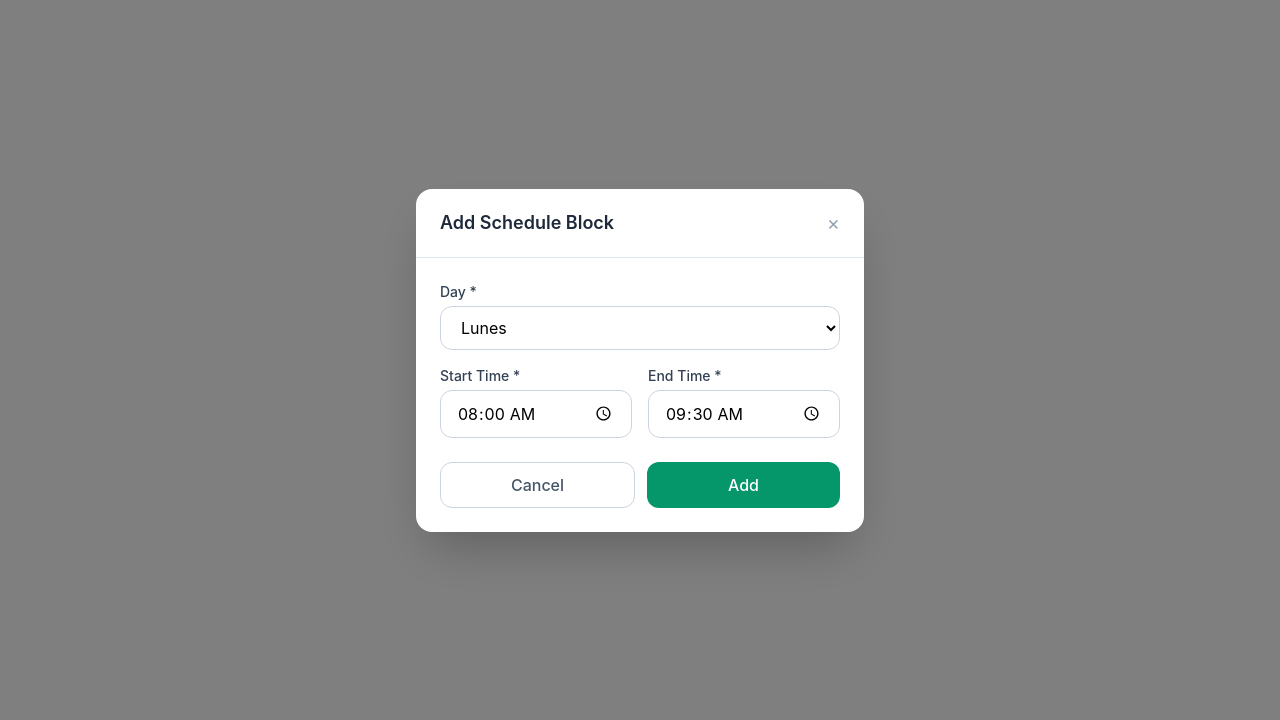
Test: ScheduleFormModal › should show validation error on empty submit
This screenshot has width=1280, height=720.
Clear the time field below "Start Time *": (536, 414) [440, 390, 632, 438]
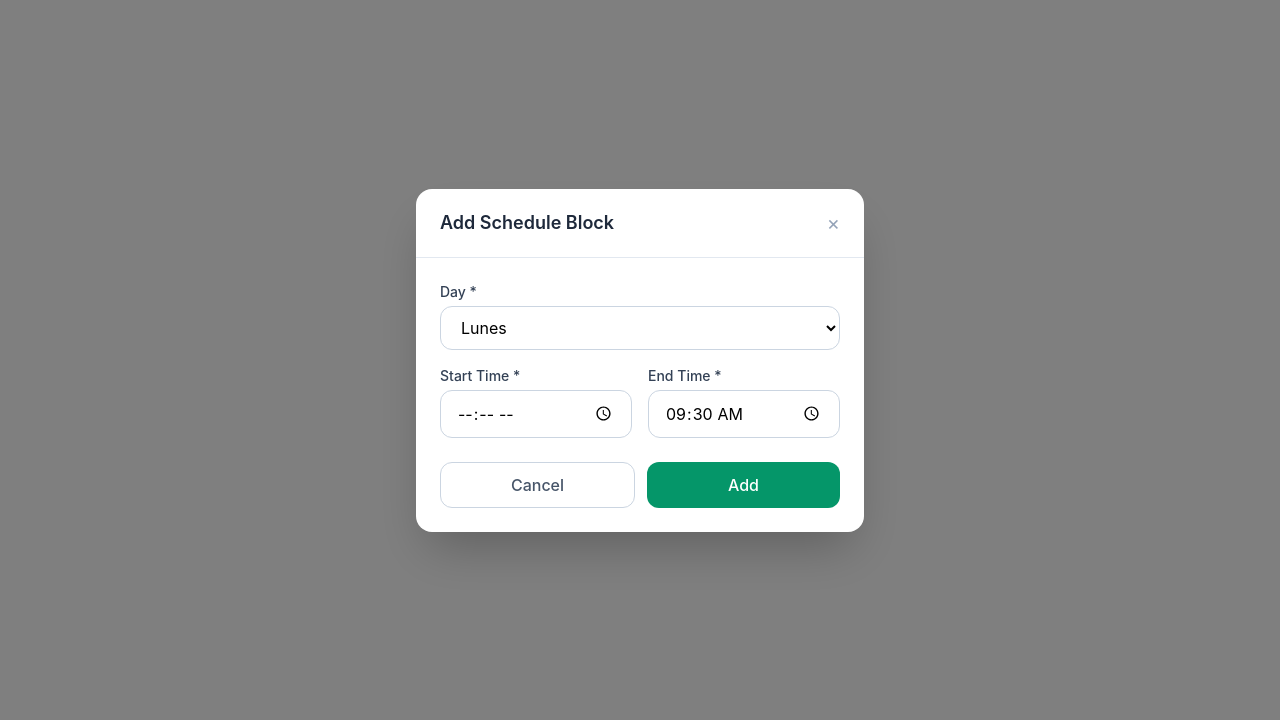
Clear the time field below "End Time *": (744, 414) [648, 390, 840, 438]
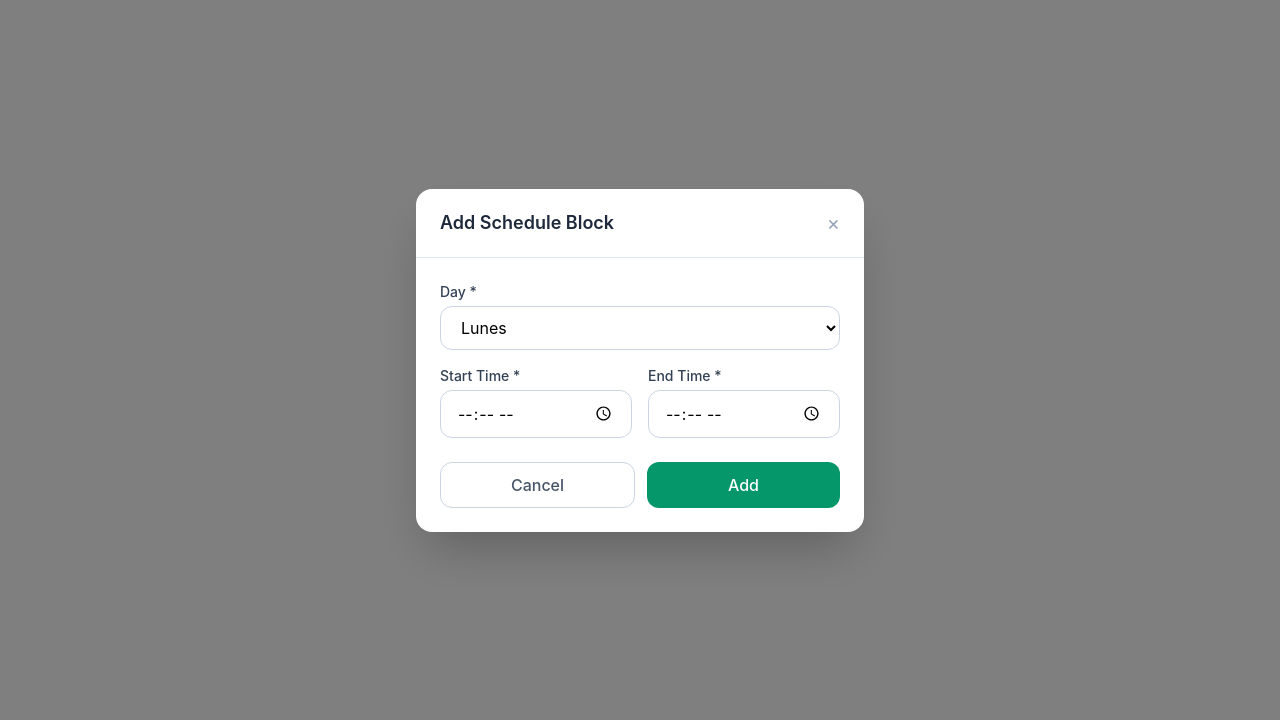
Click the button "Add": (744, 484) [647, 462, 840, 508]
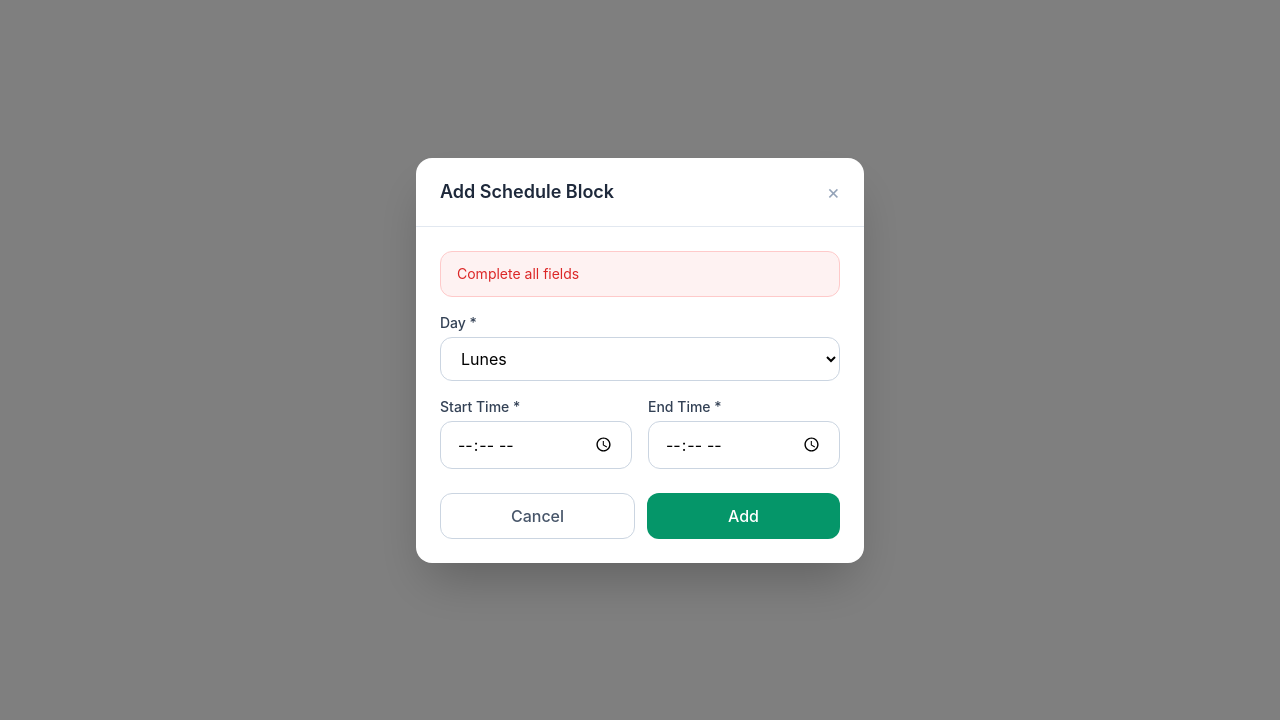
Expected: the text "Complete all fields" is shown, [440, 250, 840, 296]
